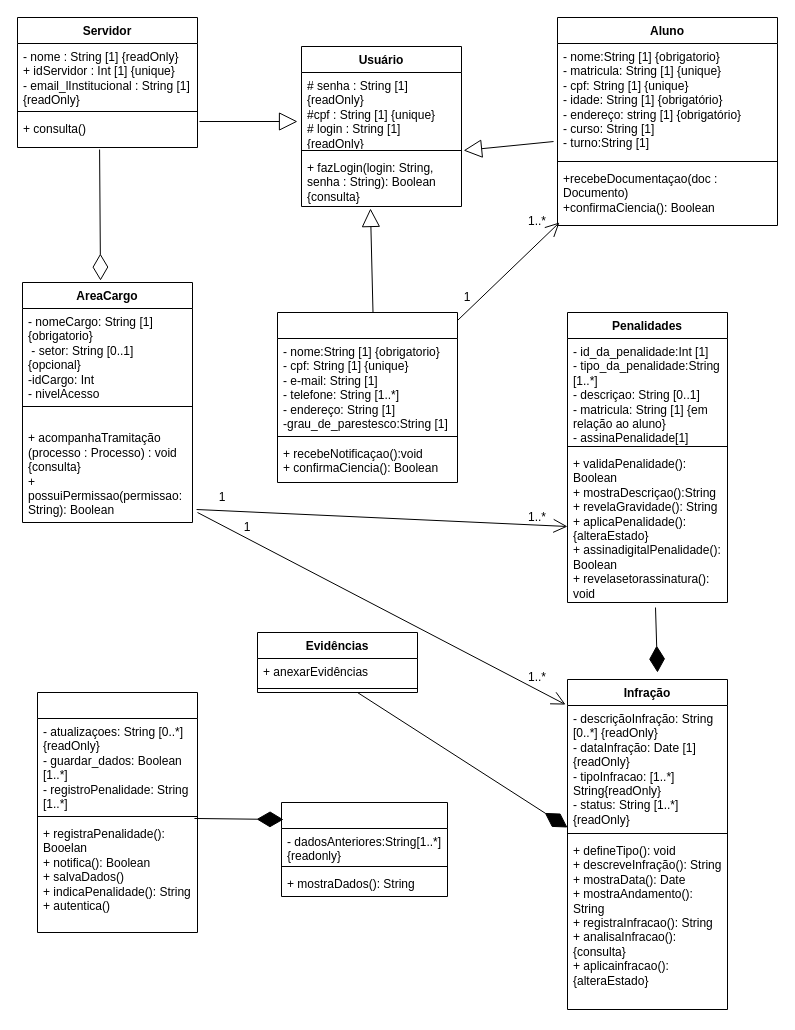
The diagram is 795 pixels wide and 1030 high, and some of its shapes have lost their labels. The box of each missing label's shape, as (x1, y1, x2, y2) in pixels:
Historico: (280, 802, 448, 896)
Pais/Responsaveis: (276, 312, 458, 482)
Sistema: (36, 692, 198, 932)
